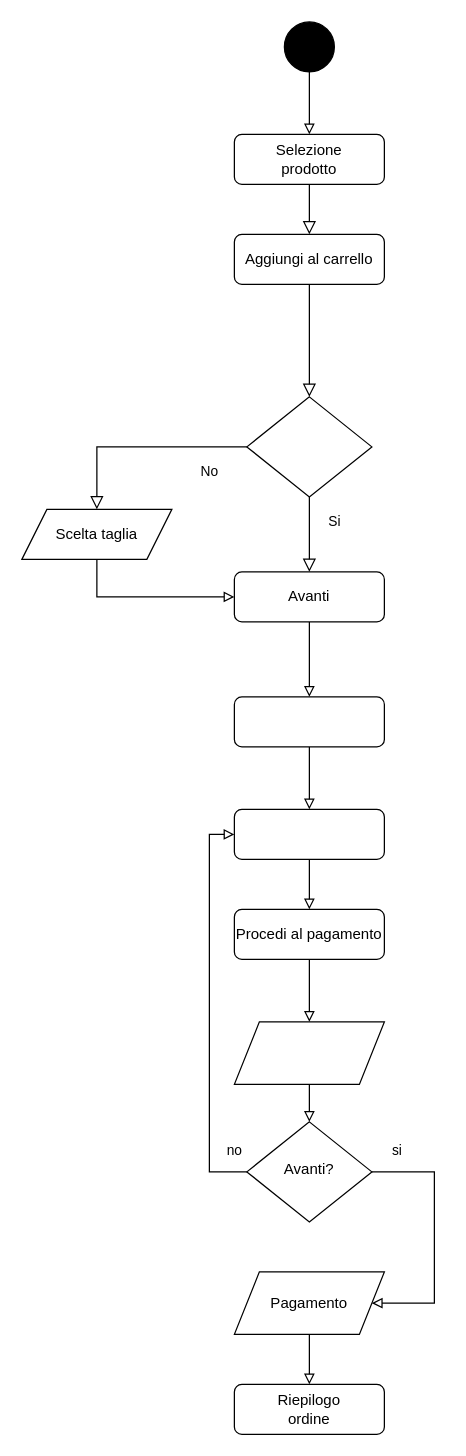
This 466x1456 diagram has some shape labels left out. The shapes that lost their labels are listed below. From the top down, each one's box as (x1, y1, x2, y2) in pixels, then its label:
(246, 396, 372, 497): Aveva scelto la taglia?
(233, 696, 384, 747): Scheda prodotto
(233, 808, 384, 859): Carrello
(233, 1021, 384, 1084): Revisione ordine
